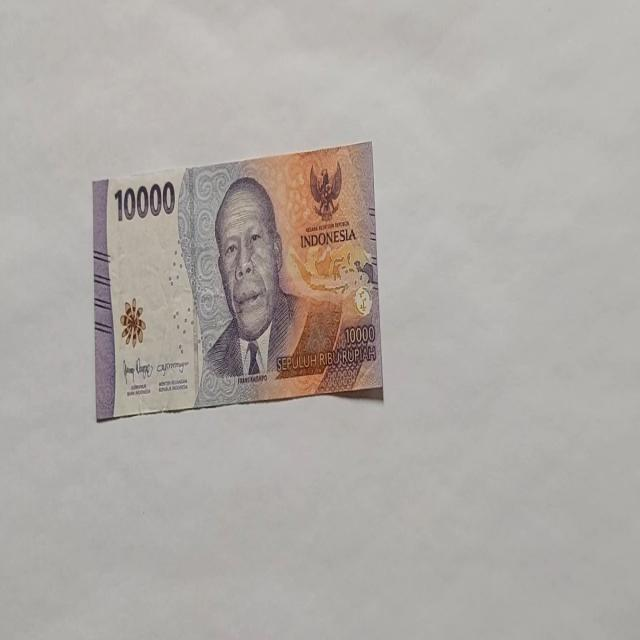sepuluh ribu rupiah: (92, 138, 384, 422)
